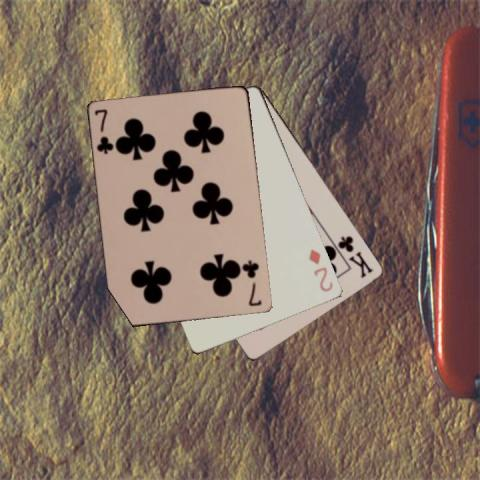2d: (306, 246, 335, 293)
7c: (241, 257, 264, 308), (92, 106, 115, 156)
Kc: (336, 233, 376, 279)
